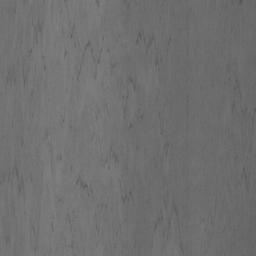Silk spot: (0, 0, 252, 256), (212, 63, 256, 128), (123, 0, 145, 16)
